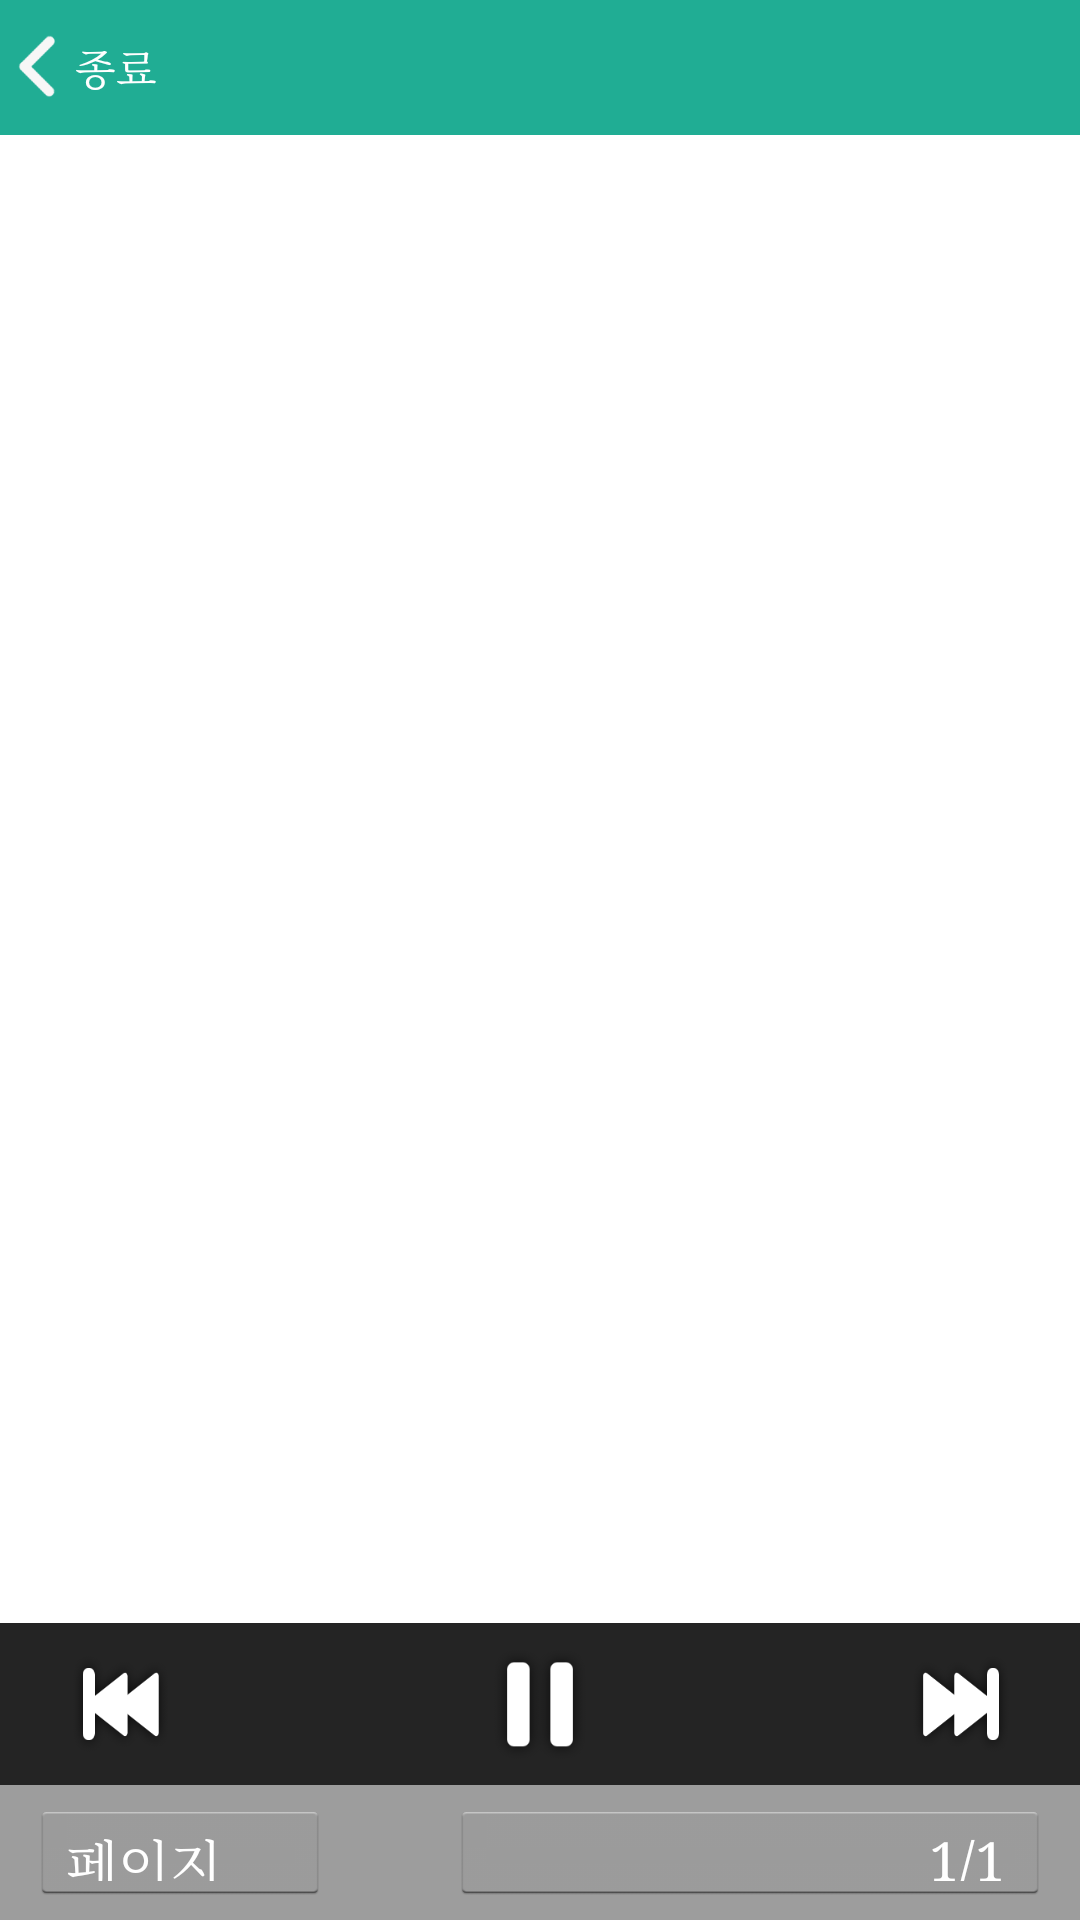

Named icons in this screenshot (1080w x 1920h) and their centers, (x=x, y=y):
다음: (x=961, y=1704)
이전: (x=121, y=1704)
일시정지: (x=540, y=1704)
